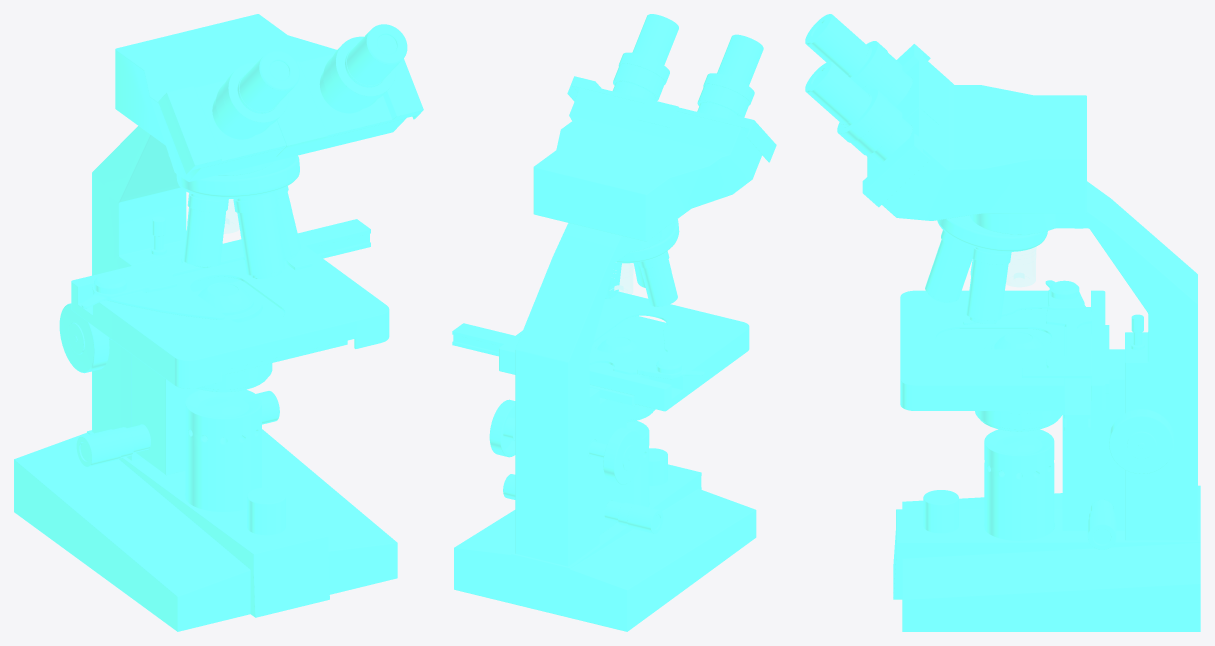
Rendered from microscope1.gltf.
3 views of the same model, side by side, from view 1: azimuth 30°, elevation 25°; view 2: azimuth 150°, elevation 25°; view 3: azimuth 270°, elevation 25° (orthographic). The views are drawn at different scales.
Parts seen in each view (by area): view 1: base1, tray, base2, head, head.001, lamp, objective-lower, objective, base3, 40x, condenser, disk (+10 smaller); view 2: base2, base1, head, tray, objective-lower, focusknob, objective, head.001, base3, focusknob 2, rail, tray2 (+8 smaller); view 3: base1, base2, head, tray, lamp, base3, objective-lower, objective, head.001, focusknob, slide holder, 100x (+9 smaller).
Part boxes in pixels (left/top/right/bottom): base1: left=14, top=429, right=397, bottom=631; tray: left=71, top=239, right=389, bottom=388; base2: left=92, top=126, right=273, bottom=460; head: left=115, top=14, right=406, bottom=181; head.001: left=158, top=54, right=423, bottom=174; lamp: left=185, top=389, right=261, bottom=511; objective-lower: left=212, top=36, right=395, bottom=139; objective: left=239, top=24, right=407, bottom=111; base3: left=132, top=354, right=200, bottom=475; 40x: left=233, top=192, right=285, bottom=278; condenser: left=195, top=282, right=272, bottom=392; disk: left=176, top=155, right=299, bottom=199; base2: left=515, top=223, right=662, bottom=566; base1: left=454, top=464, right=756, bottom=631; head: left=533, top=88, right=761, bottom=241; tray: left=499, top=291, right=749, bottom=411; objective-lower: left=612, top=52, right=754, bottom=119; focusknob: left=489, top=399, right=642, bottom=484; objective: left=632, top=14, right=763, bottom=85; head.001: left=567, top=76, right=776, bottom=162; base3: left=599, top=397, right=626, bottom=534; focusknob 2: left=503, top=474, right=663, bottom=533; rail: left=452, top=323, right=649, bottom=379; tray2: left=589, top=316, right=666, bottom=405; base1: left=893, top=485, right=1200, bottom=631; base2: left=970, top=181, right=1197, bottom=540; head: left=882, top=57, right=1086, bottom=220; tray: left=900, top=290, right=1105, bottom=410; lamp: left=984, top=429, right=1054, bottom=540; base3: left=1062, top=349, right=1124, bottom=530; objective-lower: left=837, top=41, right=912, bottom=163; objective: left=805, top=14, right=869, bottom=124; head.001: left=862, top=44, right=938, bottom=207; focusknob: left=1109, top=409, right=1174, bottom=474; slide holder: left=1022, top=309, right=1091, bottom=378; 100x: left=966, top=247, right=1011, bottom=323.
Size of the model in its own units: 0.1753 by 0.3354 by 0.2215.
